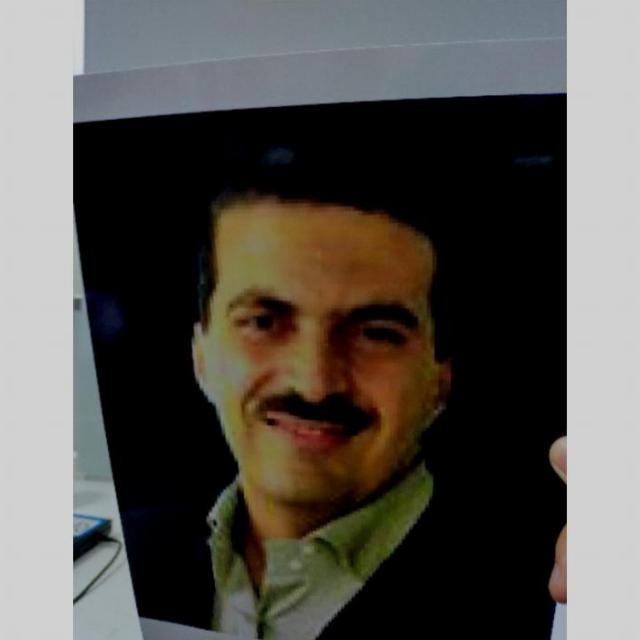photo: (75, 29, 568, 640)
